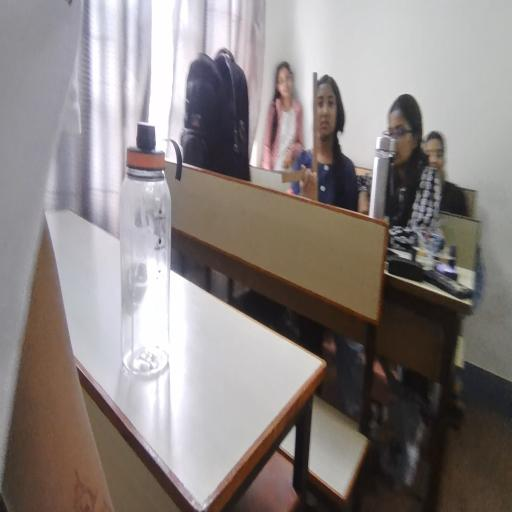Bottle: (115, 127, 186, 384)
